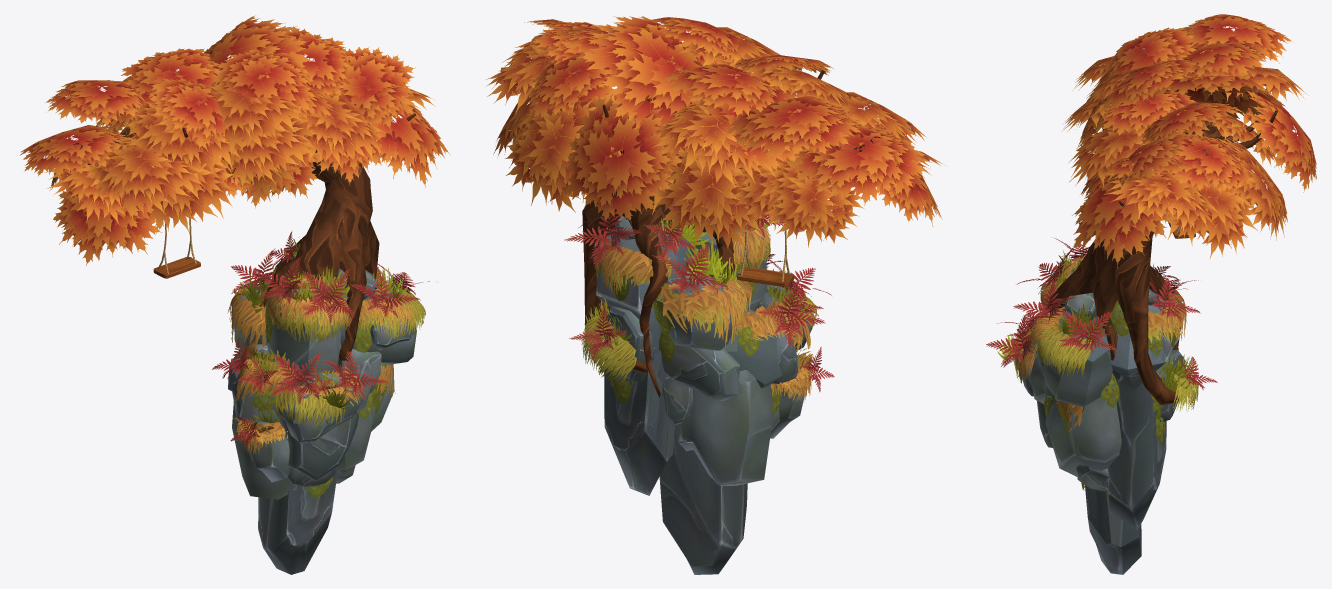
Rendered from swing.obj.
The picture shows the model from 3 angles, left to right: view 1: azimuth 30°, elevation 25°; view 2: azimuth 150°, elevation 25°; view 3: azimuth 270°, elevation 25°; orthographic projection. The views are drawn at different scales.
Visible parts, largest first — view 1: Object001.001_Mesh.032, rock_2.001_Mesh.017, leafs.001_Mesh.018, tree.001_Mesh.027, swing.001_Mesh.033; view 2: Object001.001_Mesh.032, rock_2.001_Mesh.017, leafs.001_Mesh.018, tree.001_Mesh.027, swing.001_Mesh.033; view 3: Object001.001_Mesh.032, rock_2.001_Mesh.017, leafs.001_Mesh.018, tree.001_Mesh.027.
Part boxes in pixels (x1,y1,x2,y2): Object001.001_Mesh.032: [19, 15, 450, 265]; rock_2.001_Mesh.017: [228, 254, 416, 574]; leafs.001_Mesh.018: [212, 231, 429, 499]; tree.001_Mesh.027: [73, 62, 415, 364]; swing.001_Mesh.033: [153, 210, 200, 278]; Object001.001_Mesh.032: [486, 16, 942, 248]; rock_2.001_Mesh.017: [596, 216, 814, 574]; leafs.001_Mesh.018: [564, 198, 834, 415]; tree.001_Mesh.027: [582, 69, 881, 397]; swing.001_Mesh.033: [737, 222, 794, 287]; Object001.001_Mesh.032: [1063, 14, 1316, 268]; rock_2.001_Mesh.017: [1022, 268, 1184, 574]; leafs.001_Mesh.018: [986, 238, 1217, 499]; tree.001_Mesh.027: [1047, 110, 1277, 404].
Bounding box in the file's own units: 9 × 11.12 × 6.77.
4 materials, 4 textured.
